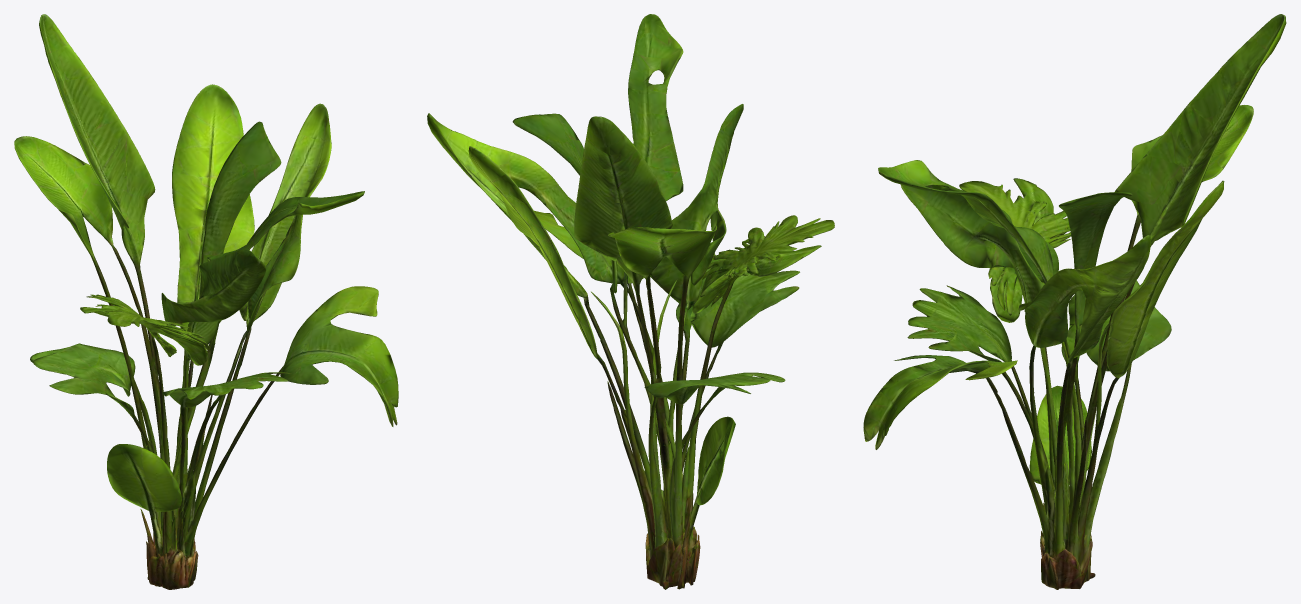
3 views of the same model, side by side, from view 1: azimuth 30°, elevation 25°; view 2: azimuth 150°, elevation 25°; view 3: azimuth 270°, elevation 25° (orthographic). The views are drawn at different scales.
Bounding box in the file's own units: 1.19 × 1.9 × 1.33.
1 material, 1 textured.
